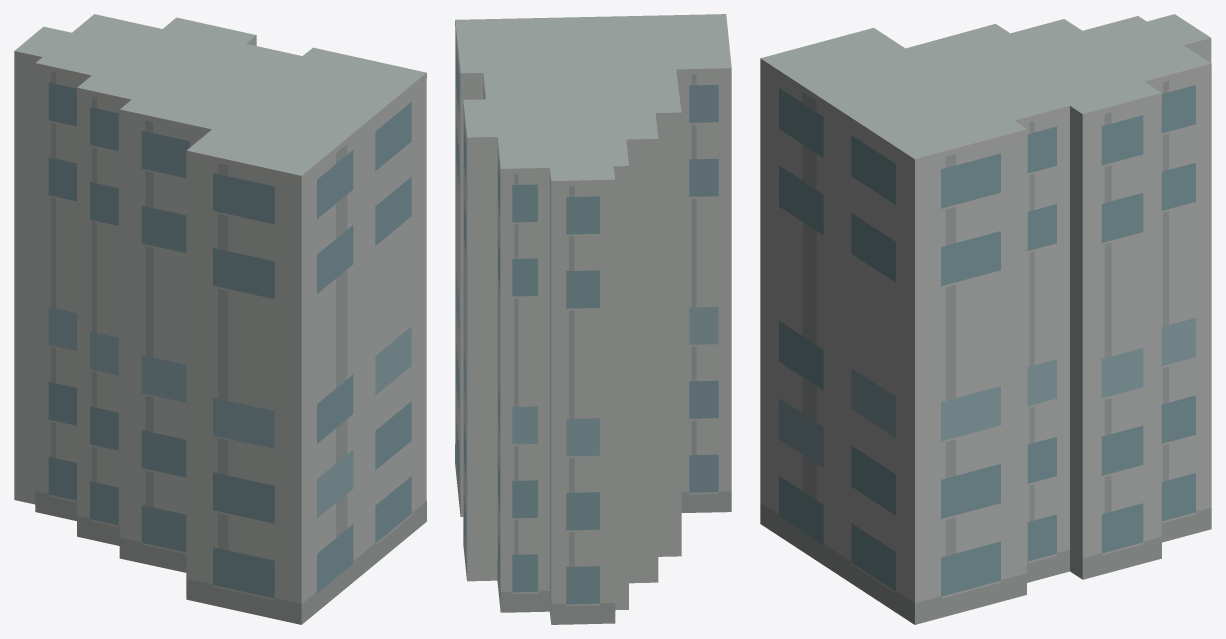
File: survey-upis-32867053.glb
3 renders of one model, left to right at view 1: azimuth 30°, elevation 25°; view 2: azimuth 150°, elevation 25°; view 3: azimuth 270°, elevation 25°, orthographic. The views are drawn at different scales.
Parts seen in each view (by area): view 1: survey-upis-32867053.tmp; view 2: survey-upis-32867053.tmp; view 3: survey-upis-32867053.tmp.
Boxes of the visible parts, x1,y1,x2,y2 form: survey-upis-32867053.tmp: [14, 14, 426, 624]; survey-upis-32867053.tmp: [455, 14, 731, 624]; survey-upis-32867053.tmp: [760, 14, 1211, 624].
Size of the model in its own units: 13.06 by 19.5 by 17.14.
